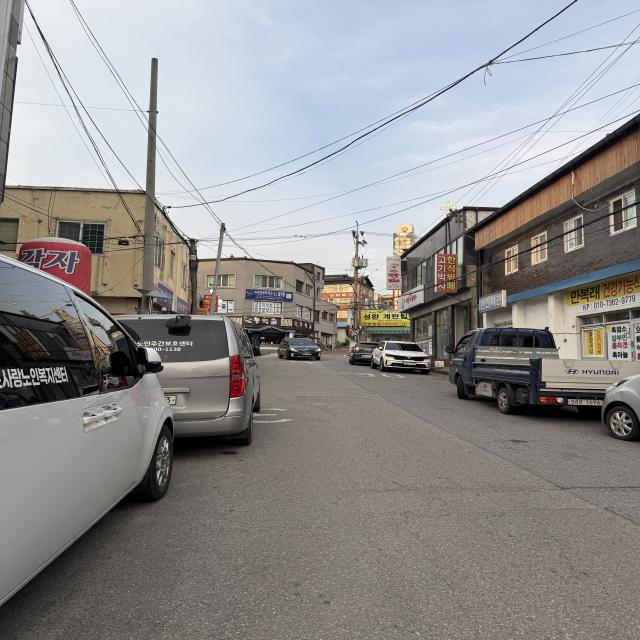car: (0, 247, 188, 638), (94, 312, 266, 451), (447, 326, 630, 424), (603, 363, 640, 447), (374, 336, 440, 378), (275, 339, 329, 361), (346, 340, 386, 365)
